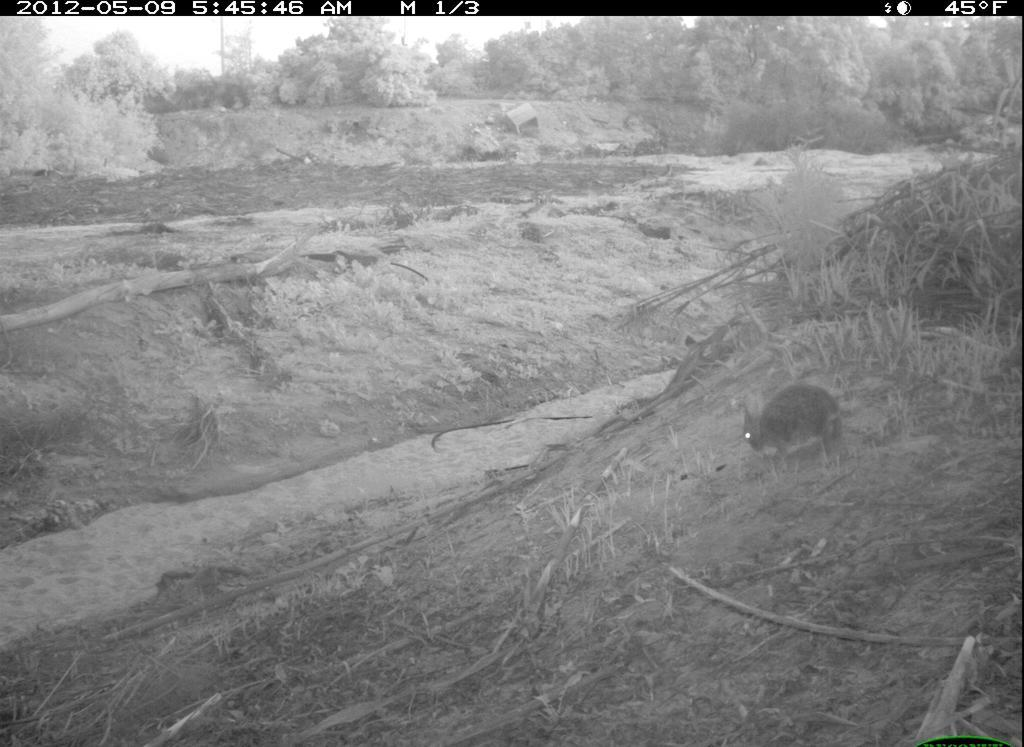rabbit: (722, 382, 862, 456)
